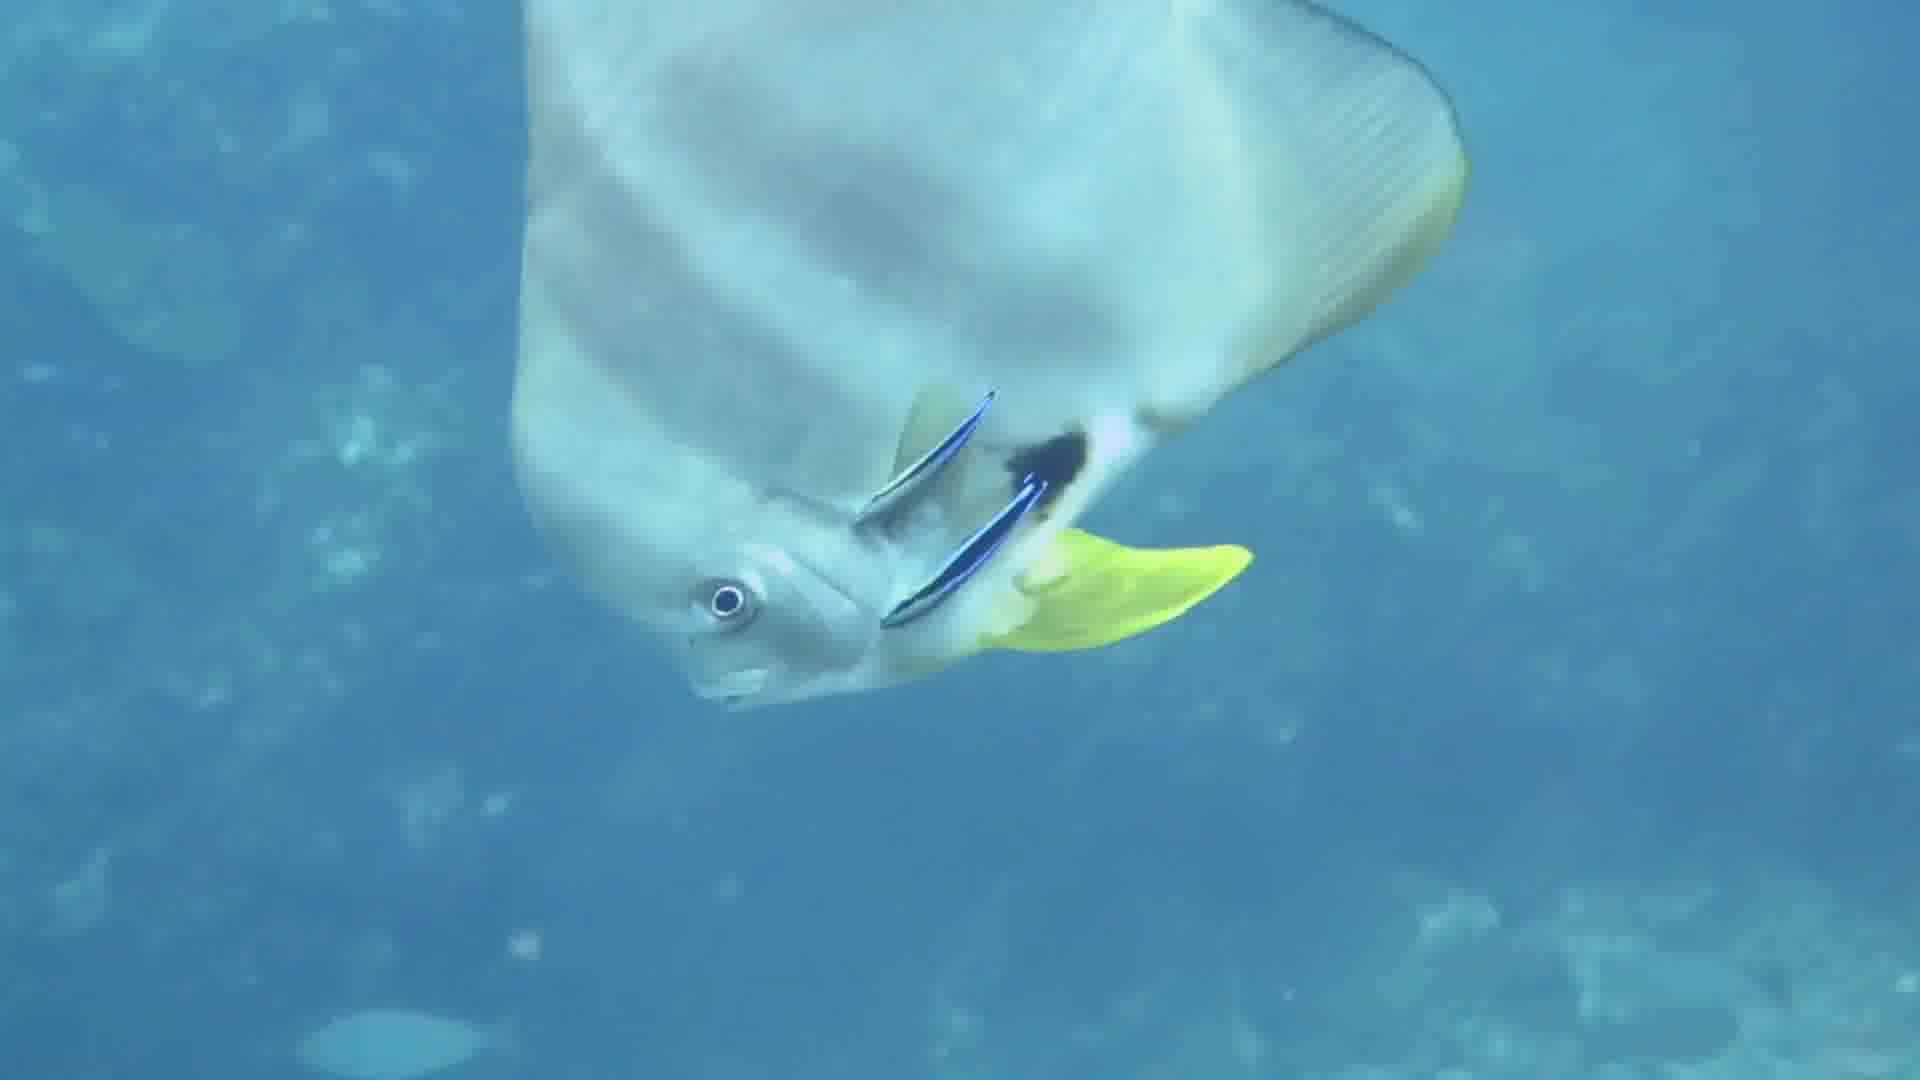Platax teira: (468, 1, 1486, 840)
